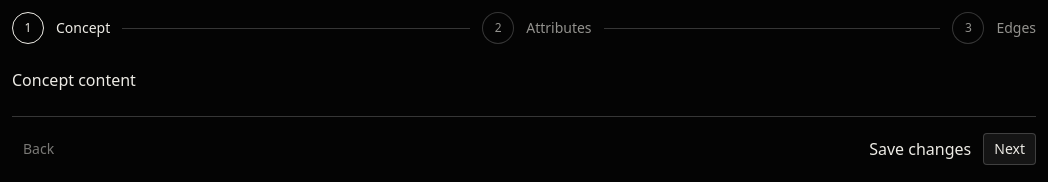
Test case: MultiStepFlow › renders footer actions beside Next and can make Next secondary
This screenshot has width=1048, height=182.
Expected: the button "Save changes" is shown, [869,137,971,161]
Click the button "Next" at coordinates (1010, 149), box [983,133,1036,165]
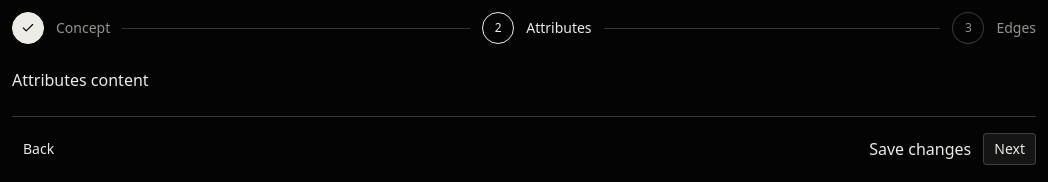
Click the button "Next" at coordinates (1010, 149), box [983,133,1036,165]
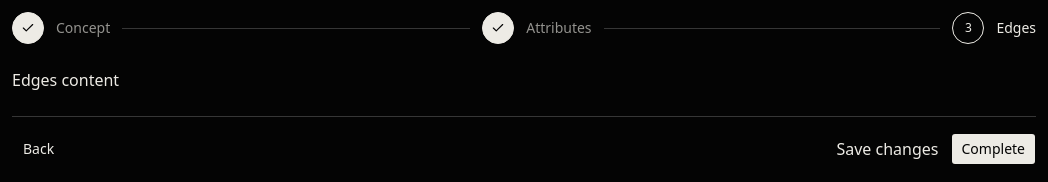
Now the button "Complete" has attribute data-variant="default", box [950,133,1036,165]
